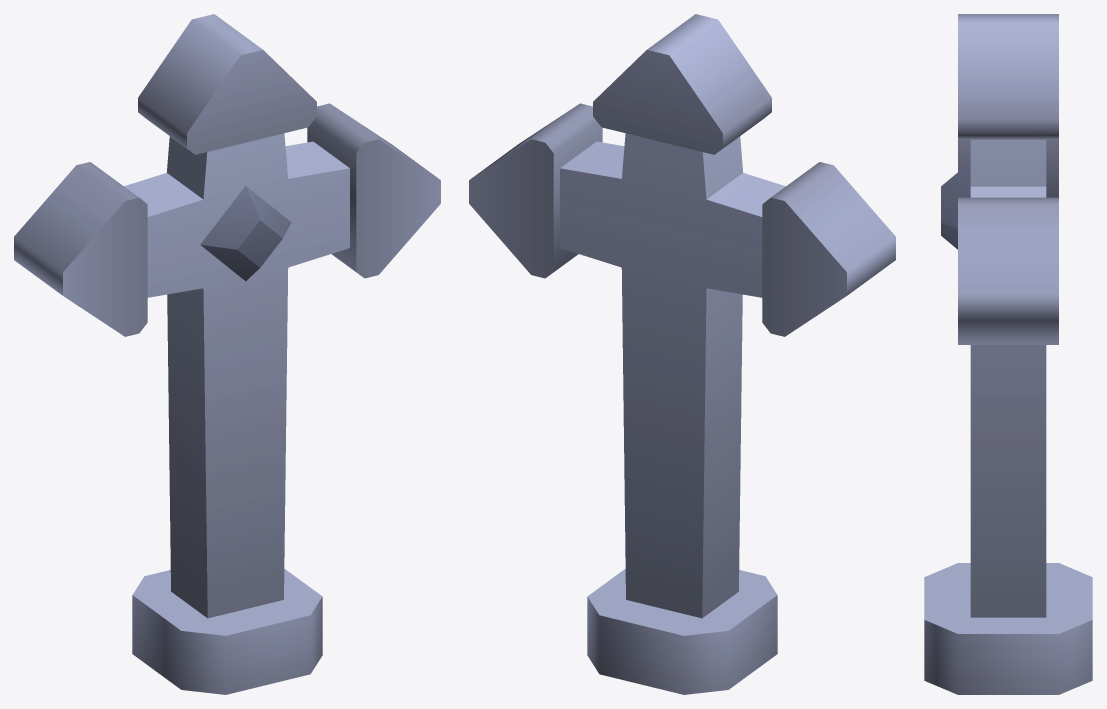
The model's file is cross.glb.
3 renders of one model, left to right at view 1: azimuth 30°, elevation 25°; view 2: azimuth 150°, elevation 25°; view 3: azimuth 270°, elevation 25°, orthographic. The views are drawn at different scales.
Parts seen in each view (by area): view 1: cross; view 2: cross; view 3: cross.
Boxes of the visible parts, bbox=[...] form: cross: bbox=[14, 14, 440, 694]; cross: bbox=[469, 14, 895, 694]; cross: bbox=[924, 14, 1092, 694].
Size of the model in its own units: 0.6691 by 1.05 by 0.25.
Materials: 1 (1 with a texture image).
